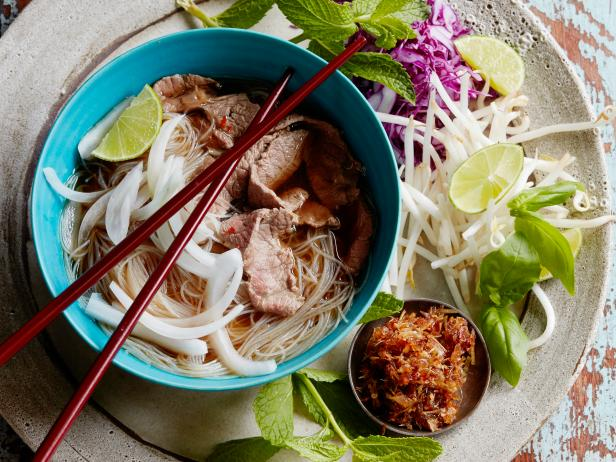beef: (221, 208, 306, 320), (152, 73, 248, 141), (244, 122, 314, 213)
